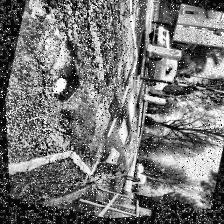pothole: (44, 60, 86, 108)
